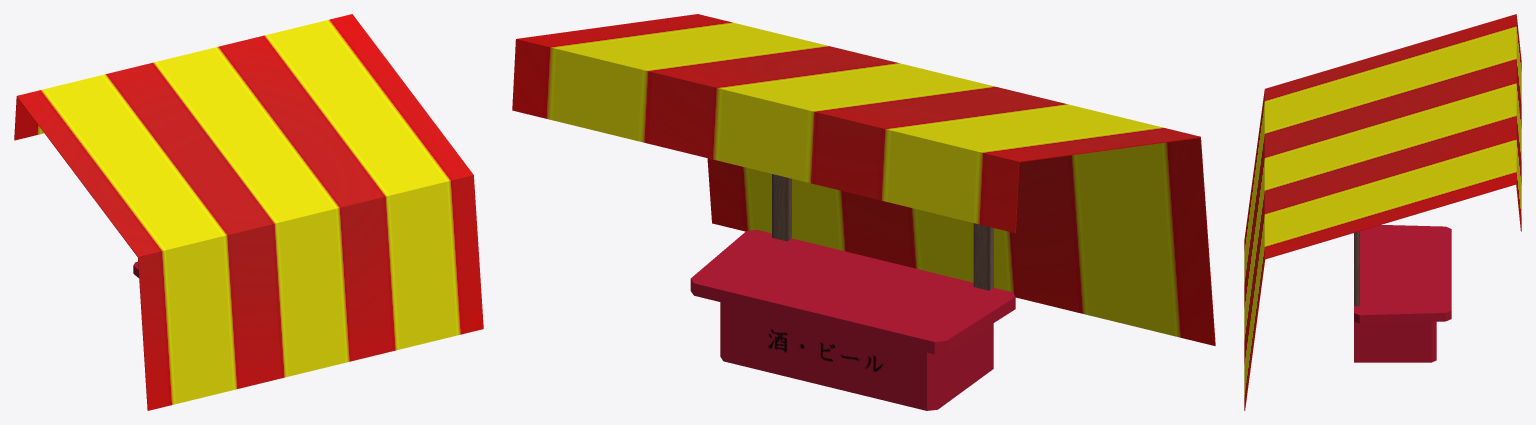
File: yatai.FBX
The picture shows the model from 3 angles, left to right: view 1: azimuth 30°, elevation 25°; view 2: azimuth 150°, elevation 25°; view 3: azimuth 270°, elevation 25°; orthographic projection. The views are drawn at different scales.
Visible parts, largest first — view 1: yatai; view 2: yatai; view 3: yatai.
Boxes of the visible parts, left/top/right/bottom form: yatai: left=14, top=14, right=483, bottom=410; yatai: left=512, top=14, right=1215, bottom=410; yatai: left=1244, top=14, right=1521, bottom=410.
Size of the model in its own units: 307 by 191 by 212.
Materials: 1 (1 with a texture image).
